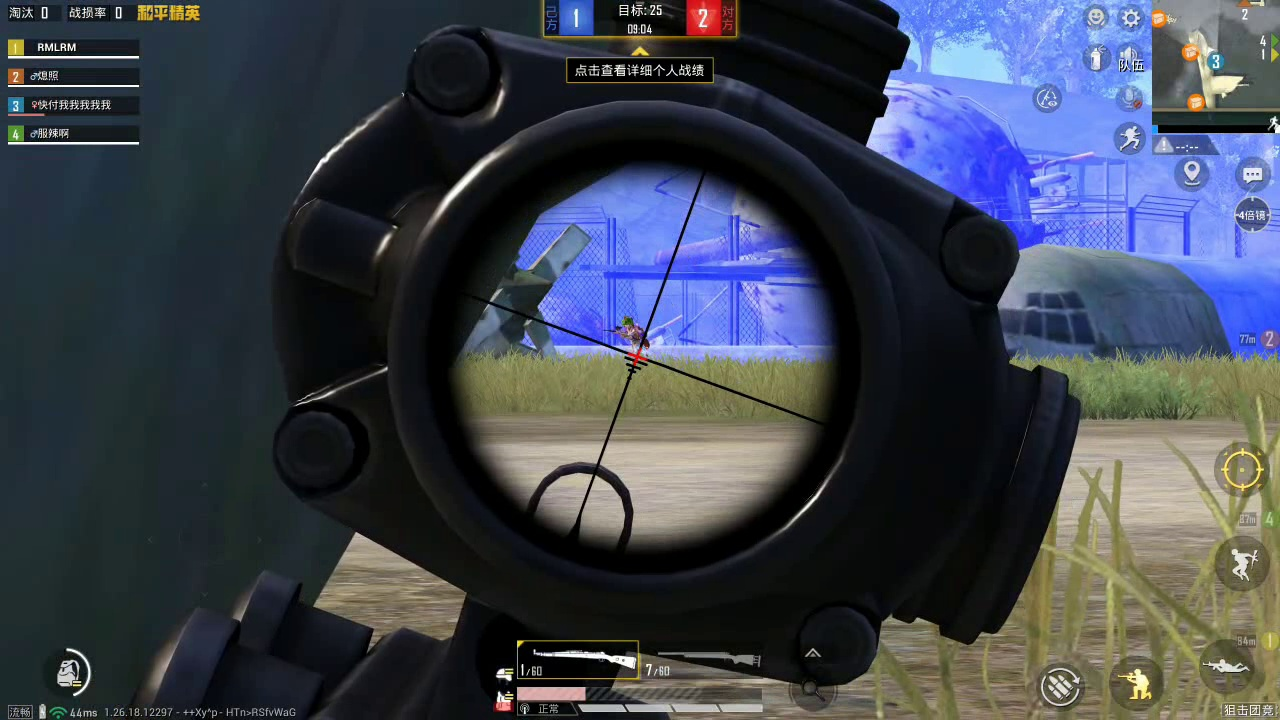enemy: (614, 313, 652, 352)
